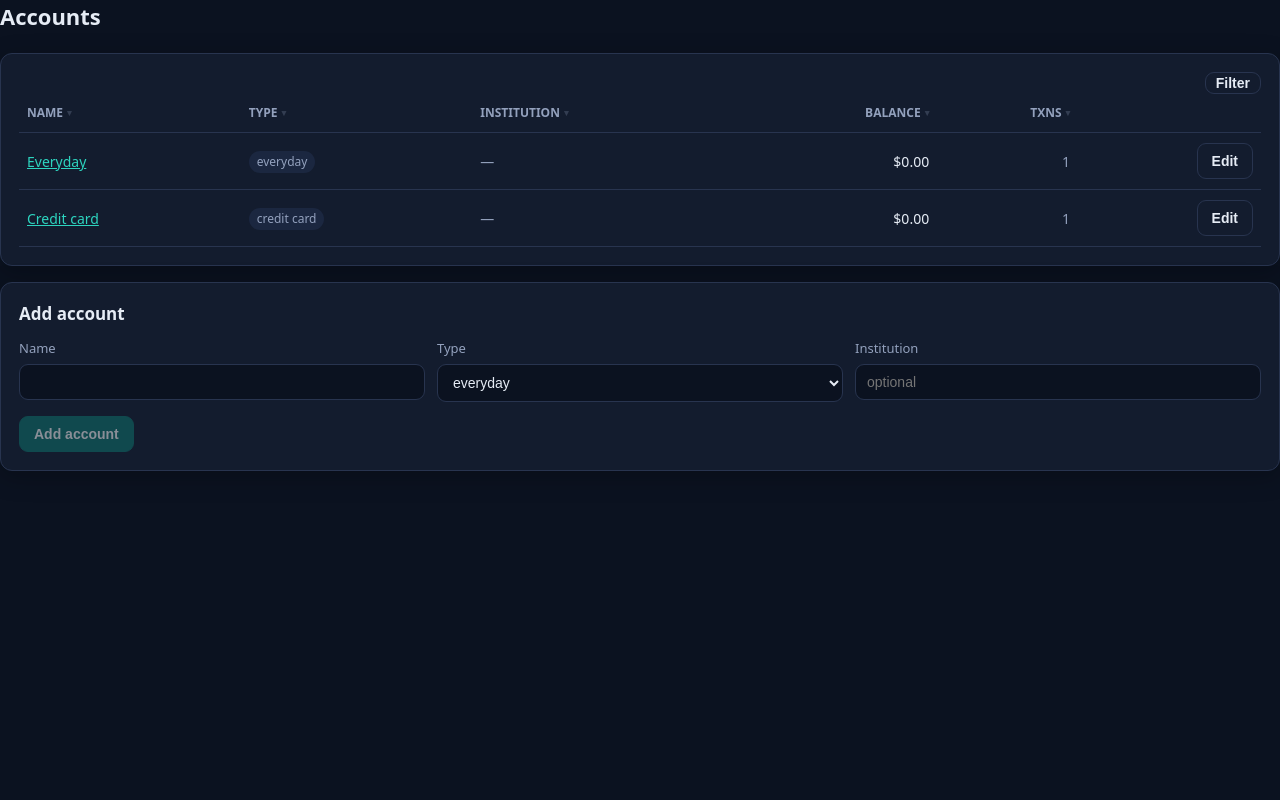
Accounts › opens the editor for an account from its Edit button
Click the button with aria-label "Edit Credit card" at (1225, 218), box [1196,200,1253,236]
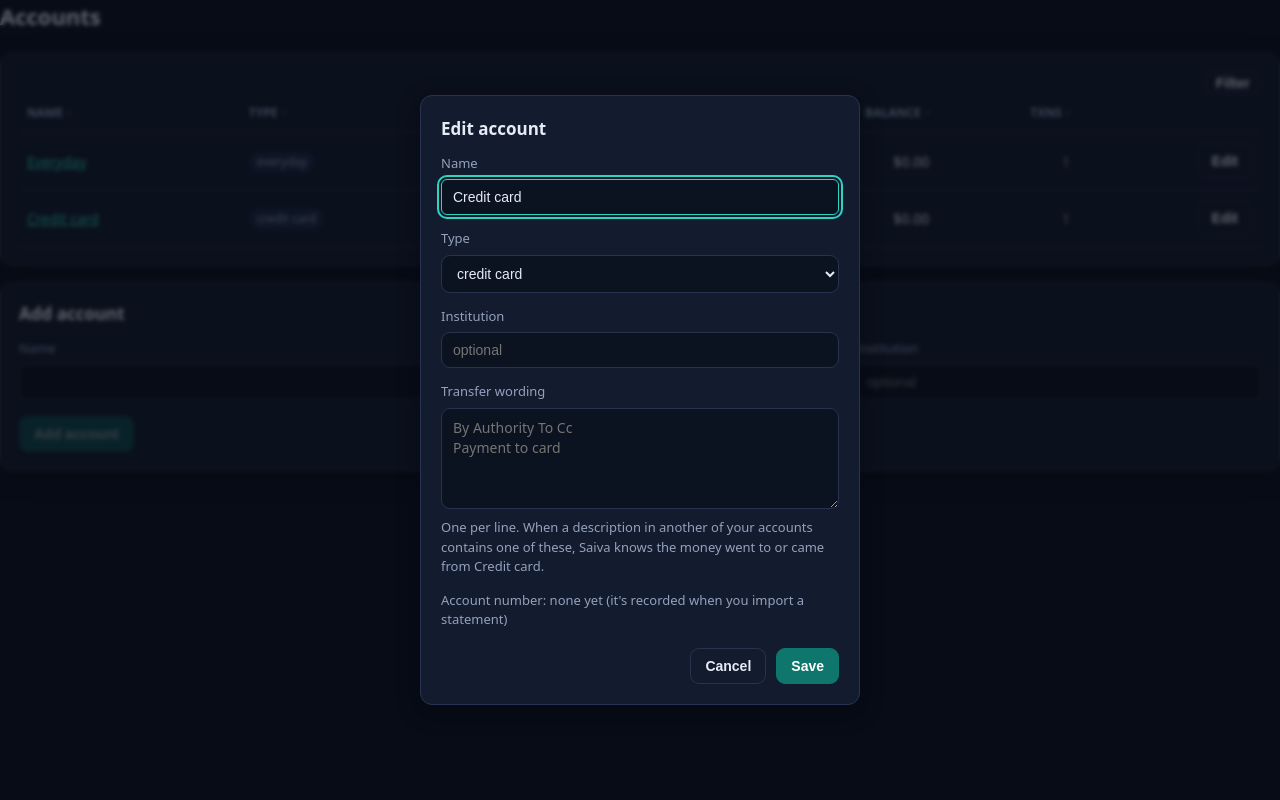
Expected: the field labelled "Name" holds "Credit card", [441,179,839,215]
Expected: the dropdown labelled "Type" shows "credit card", [441,255,839,293]
